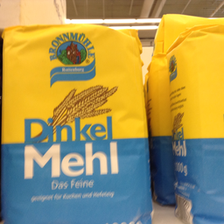flour: (3, 24, 153, 223)
